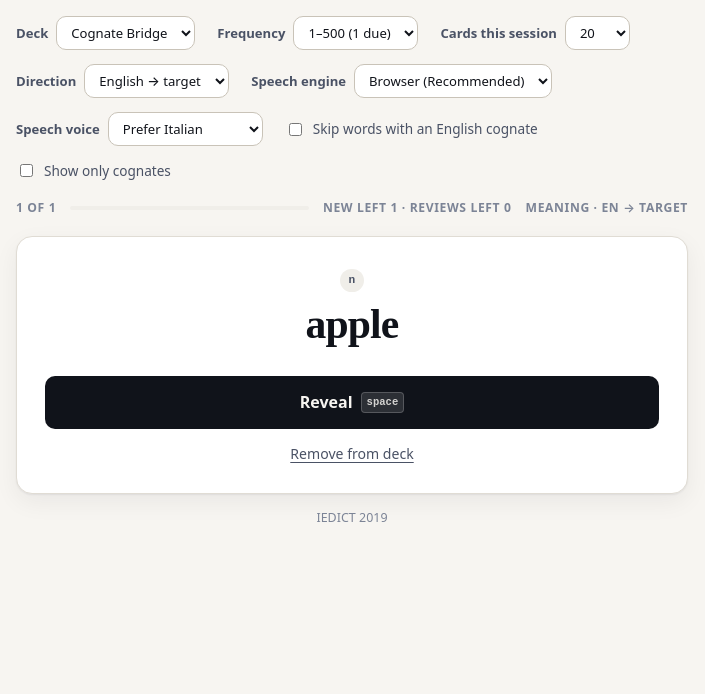
StudyPage › asks the learner to install a Romance voice when none is available
The image size is (705, 694).
Click the button "Reveal space" at [352, 403], box [45,376,659,429]
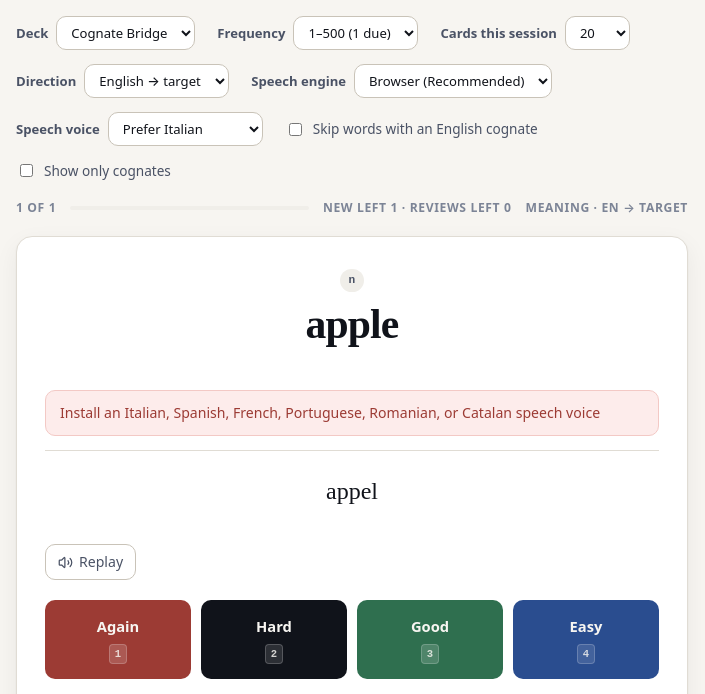
Expected: the text "Install an Italian, Spanish, French, Portuguese, Romanian, or Catalan speech voice" is shown, [60,403,600,422]
